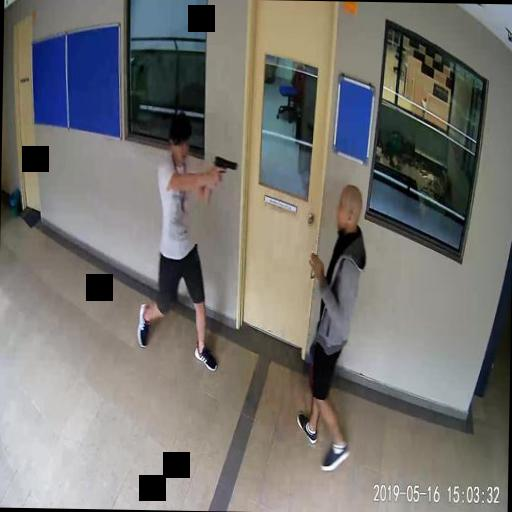Handgun: (212, 154, 236, 182)
